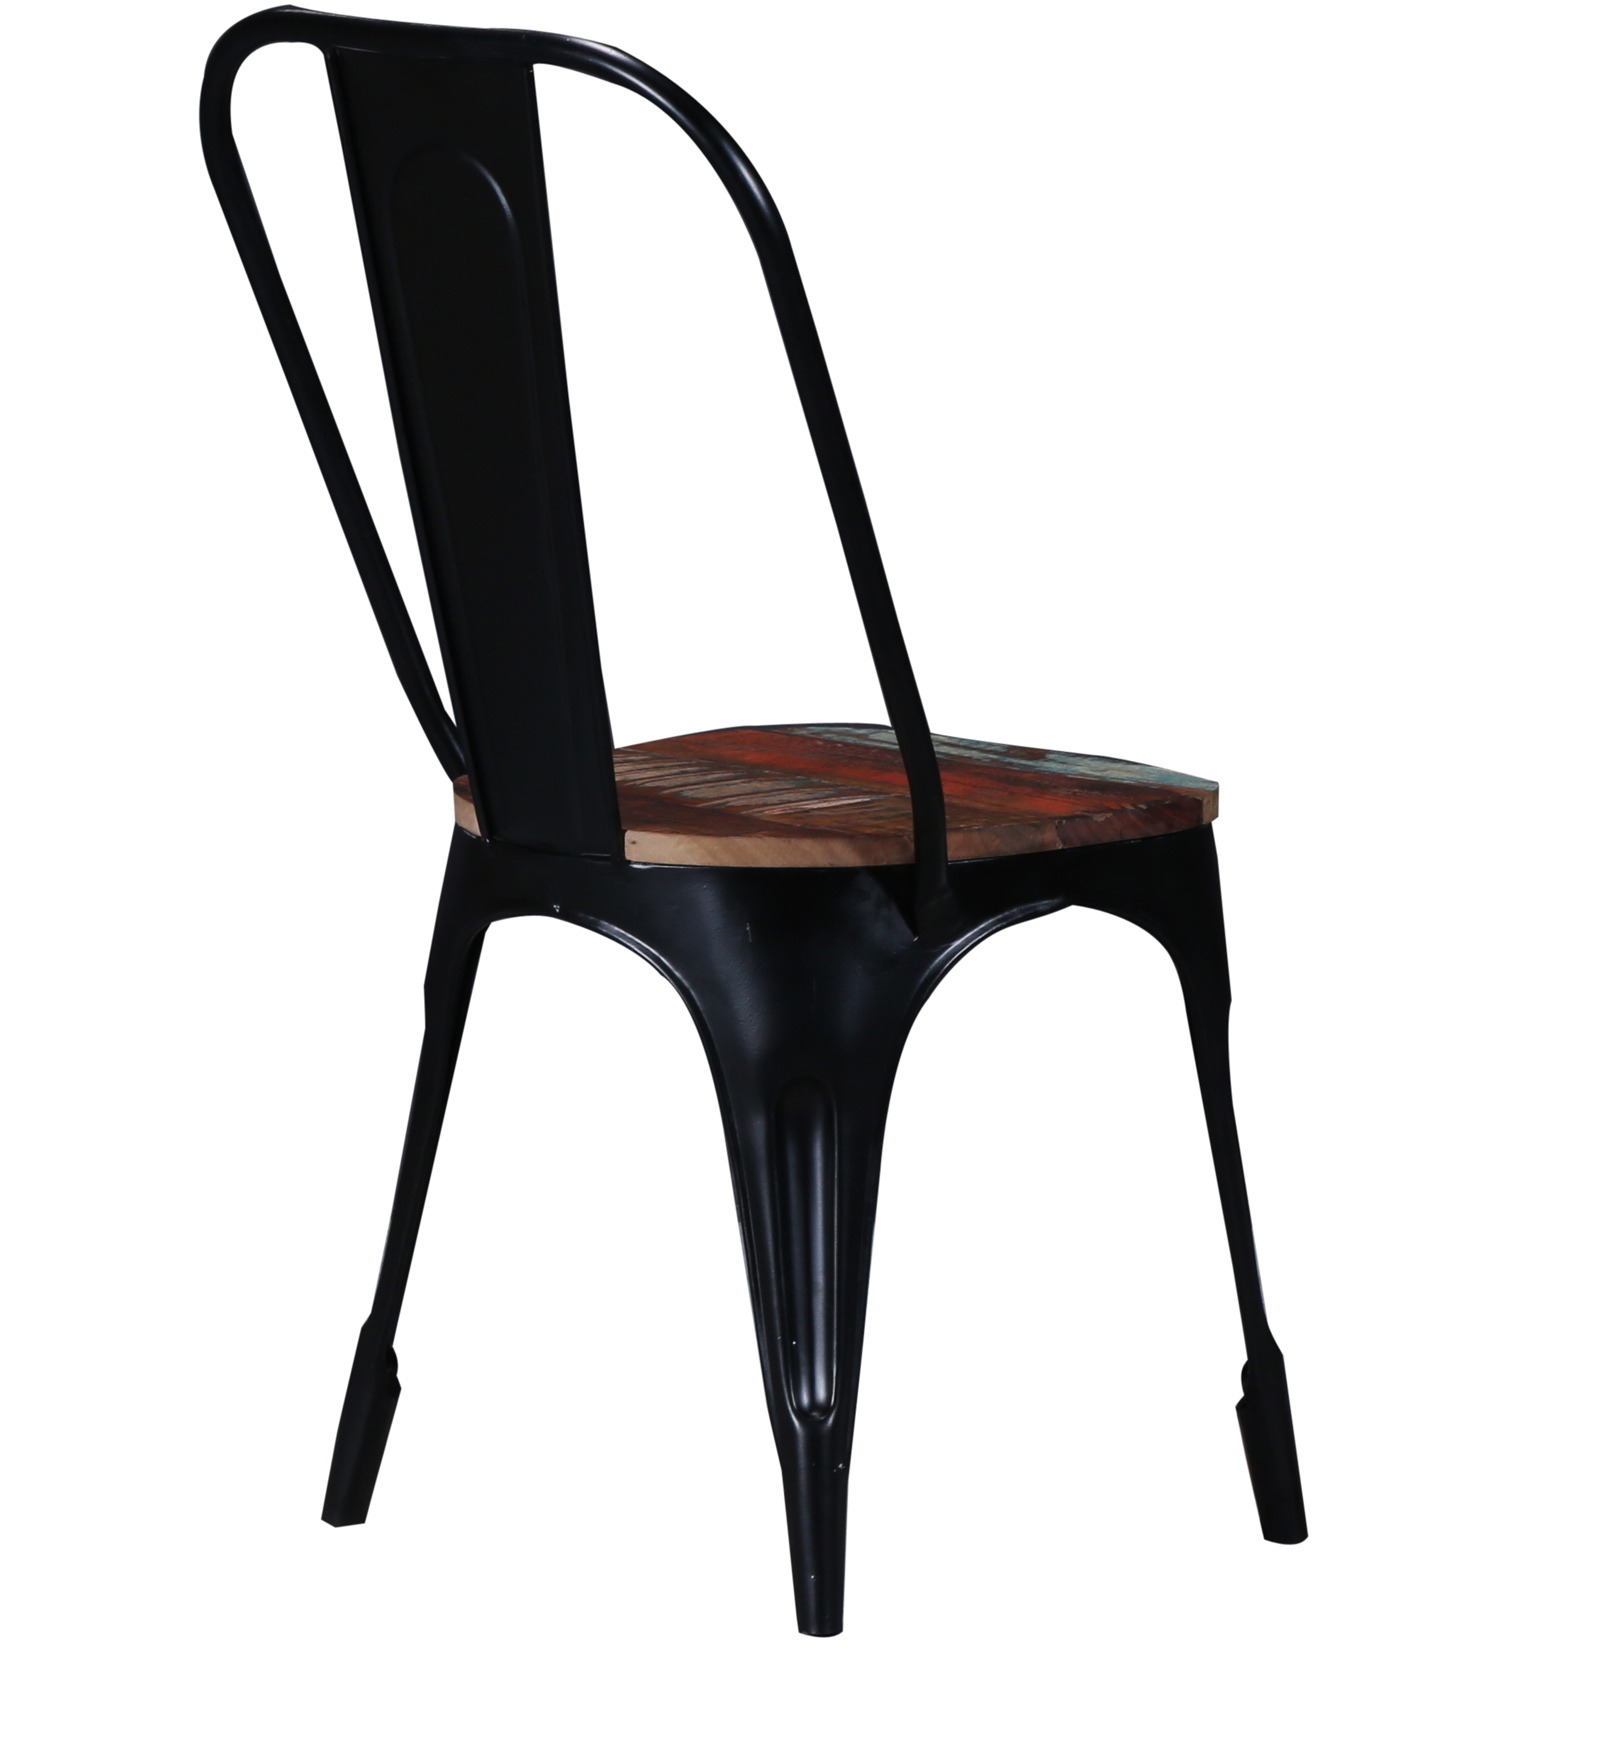Kumtor Metal Chair in Distress Black Color with Wooden Seat by Bohemiana: (159, 8, 1415, 1712)
